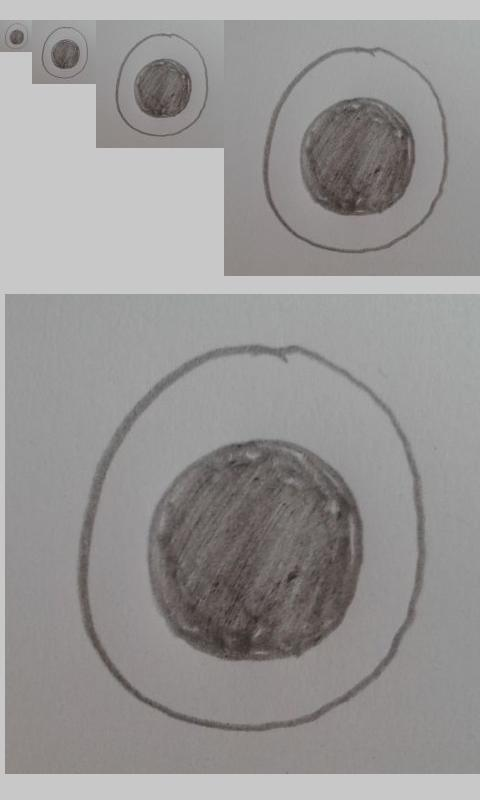radio_button: (74, 342, 429, 735), (260, 44, 451, 257), (114, 32, 209, 138), (41, 26, 89, 80), (4, 22, 29, 50)
